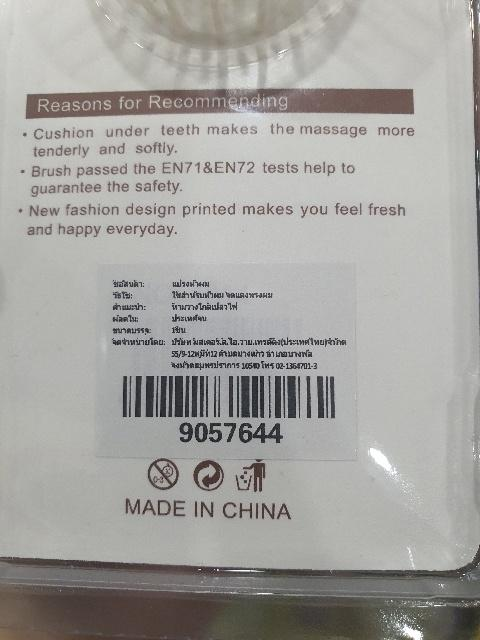Barcode: (110, 369, 350, 446)
